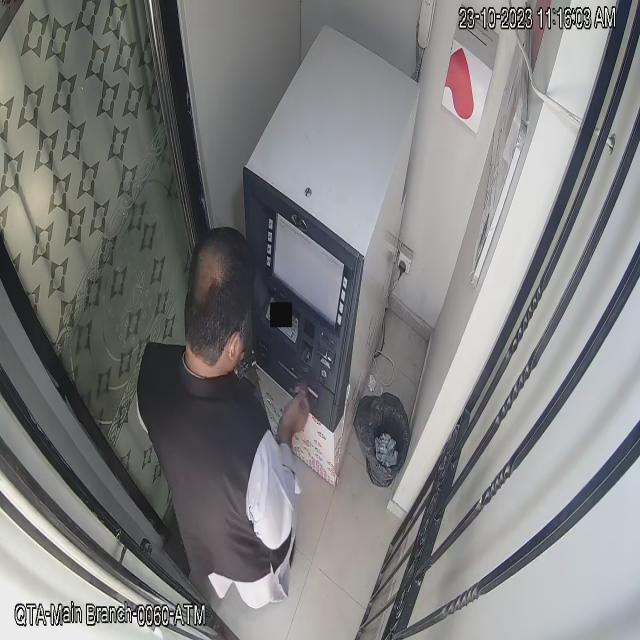atm-card: (231, 340, 261, 381)
